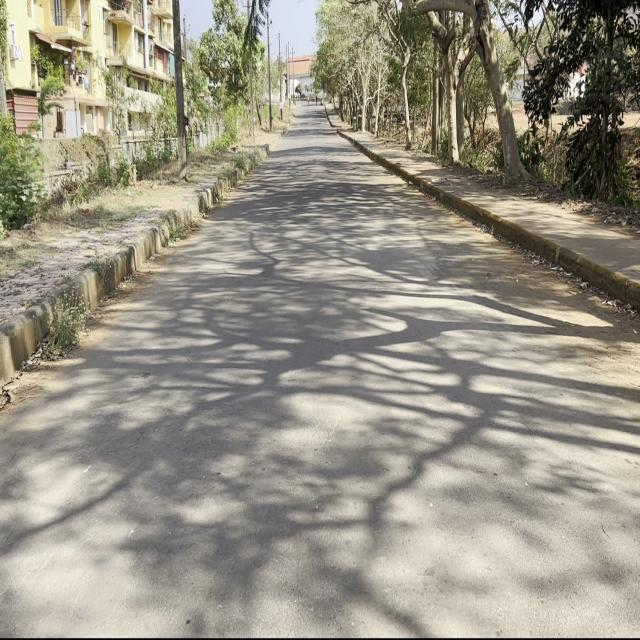Road: (3, 113, 636, 633)
